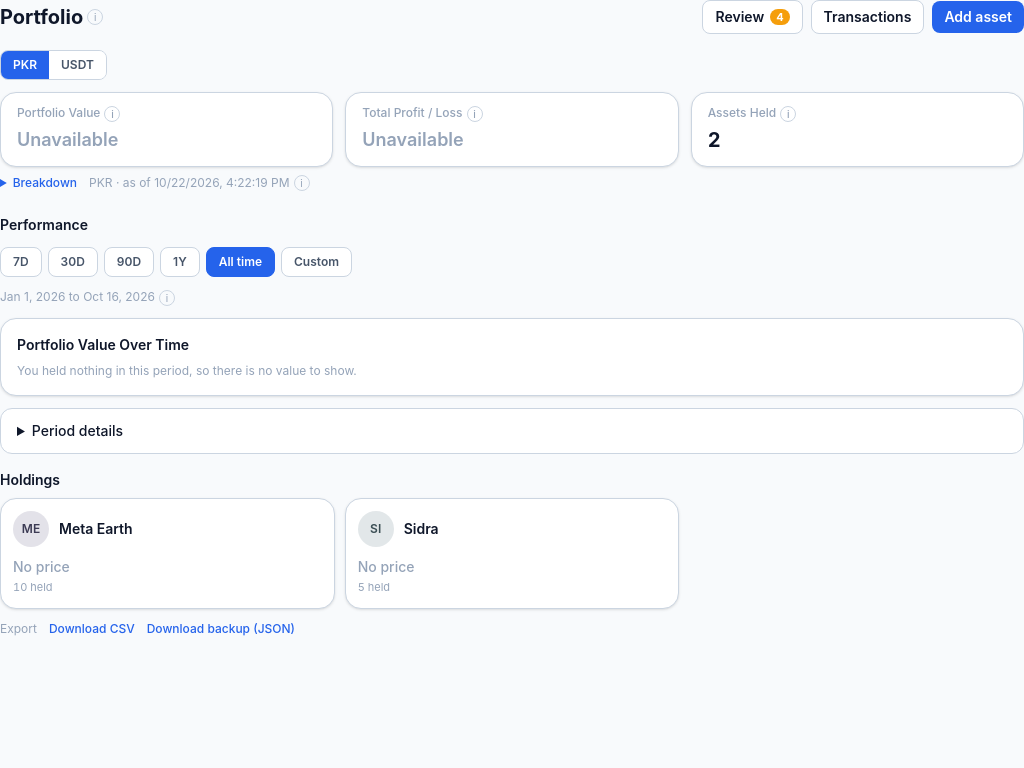
it: Review center › Add opening holdings opens the opening-holding form
Click the button "Review 4": {"x": 753, "y": 17} [702,0,803,34]
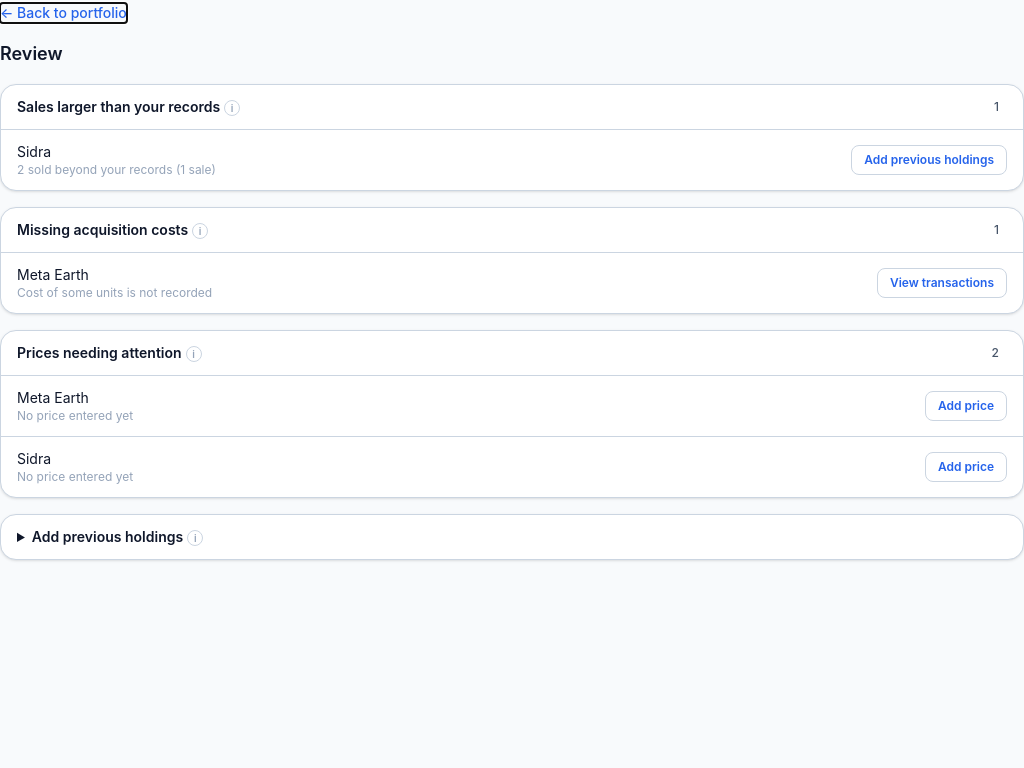
Click the button with aria-label "Add previous holdings: Sidra": {"x": 929, "y": 160} [851,145,1007,175]
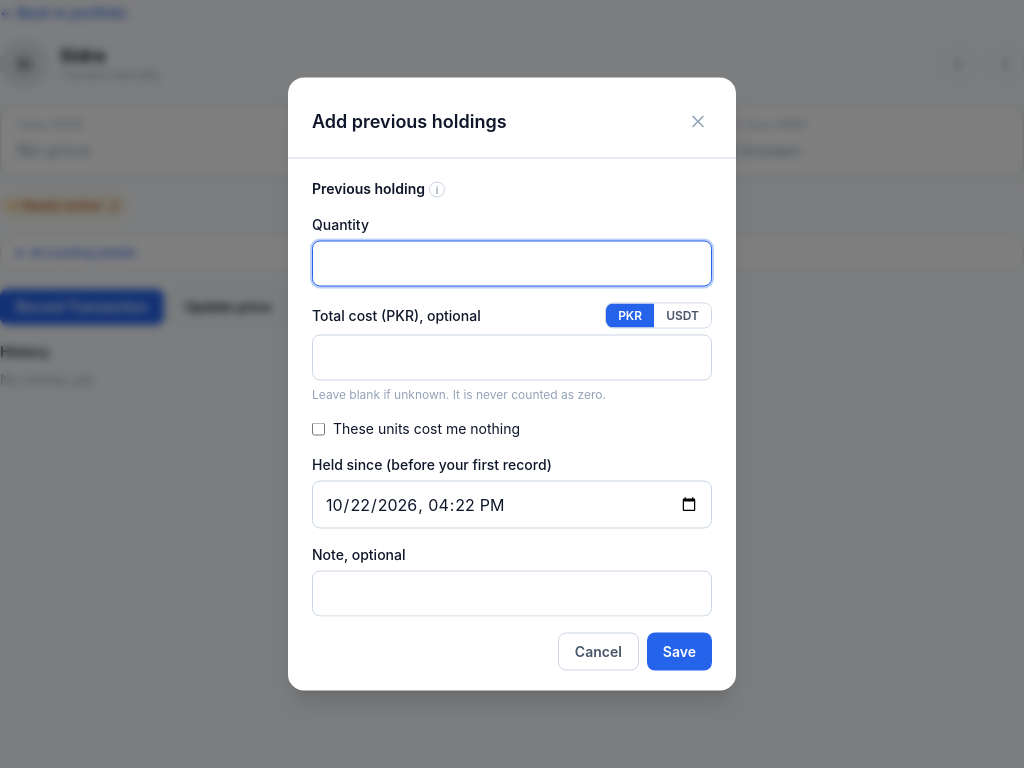
Expected: the dialog "Add previous holdings" is shown, [288,78,736,690]
Expected: the field labelled "Total cost (PKR), optional" is shown, [312,334,712,380]
